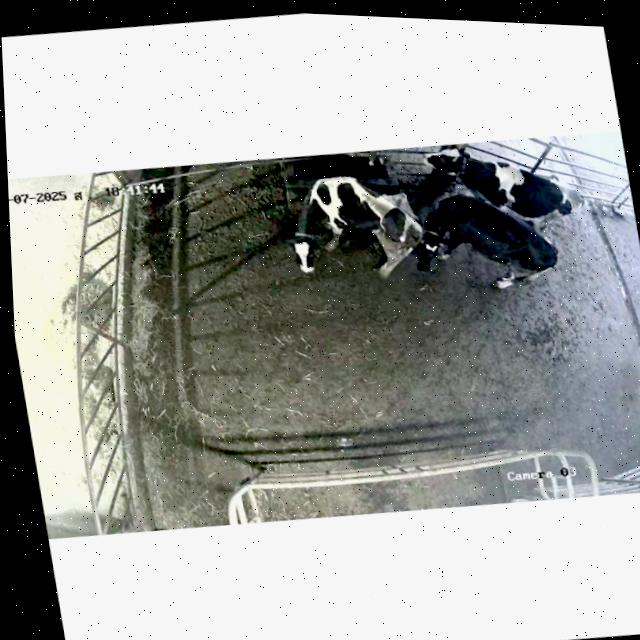stand: (258, 160, 430, 303), (404, 172, 571, 316), (410, 127, 587, 235)
